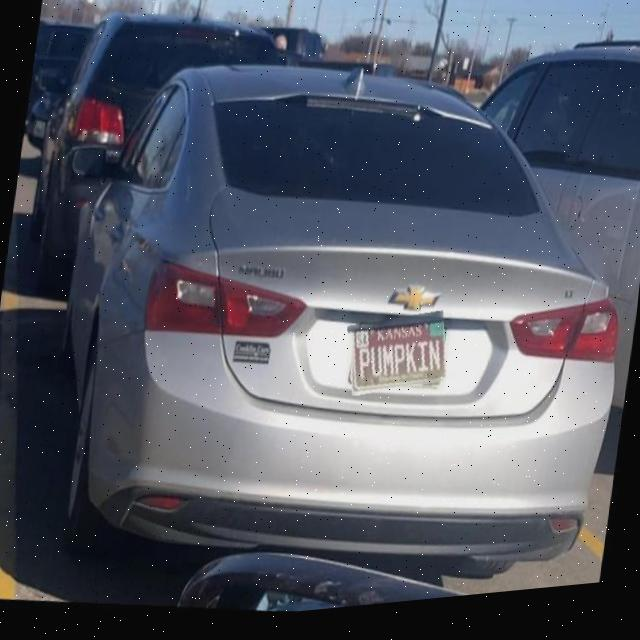LicensePlate: (350, 322, 445, 397)
